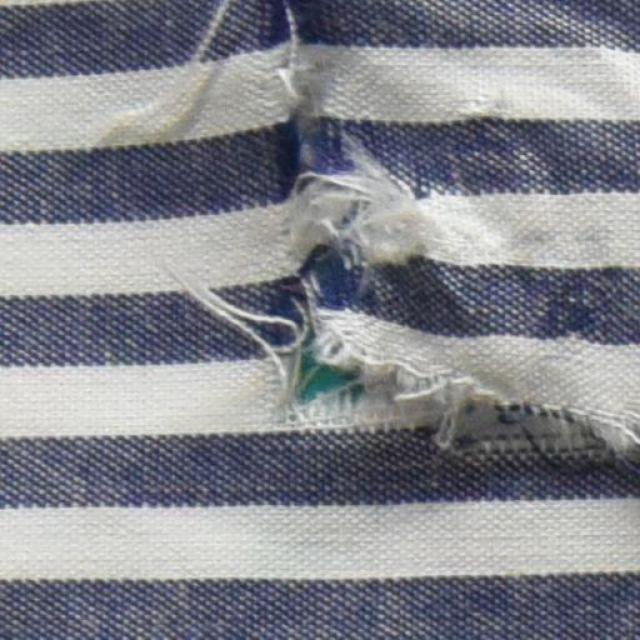cut: (263, 348, 636, 457), (255, 2, 356, 348)
